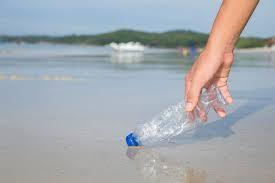Plastic: (86, 82, 248, 162)
